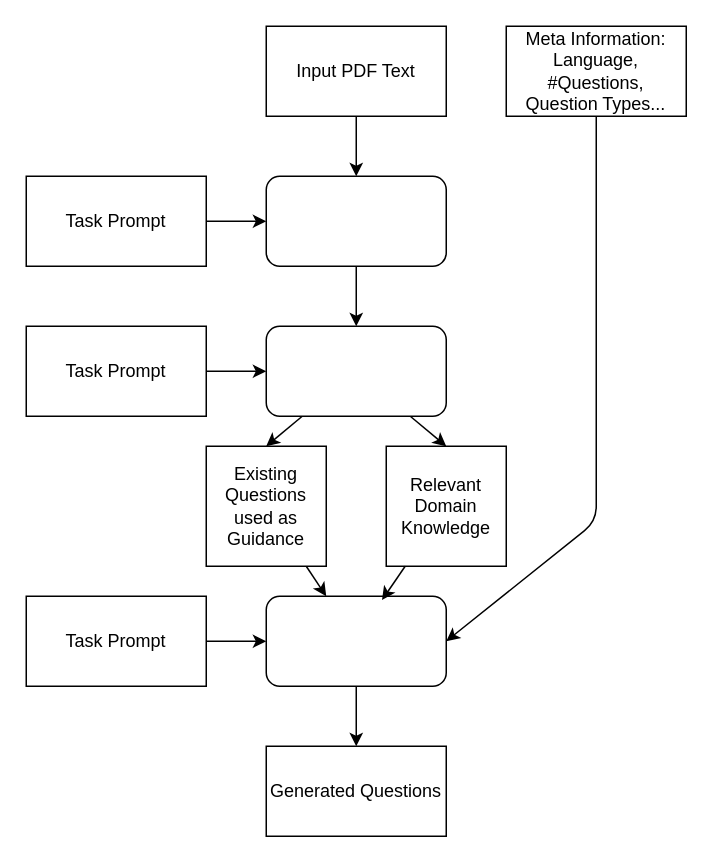
This 713x863 diagram has some shape labels left out. The shapes that lost their labels are listed below. From the top down, each one's centre as x and y in pixels, then its label:
At point 355,220: "Preprocess PDF Text".
At point 355,370: "RAG for existing Questions and Domain Knowledge".
At point 355,640: "Generate Questions".
